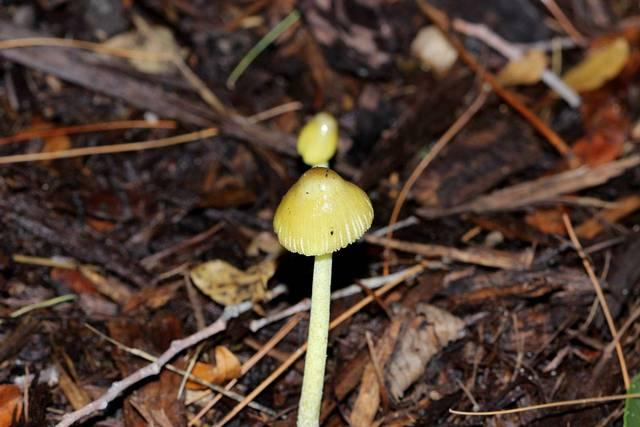Edible Mushroom: (270, 108, 376, 325)
